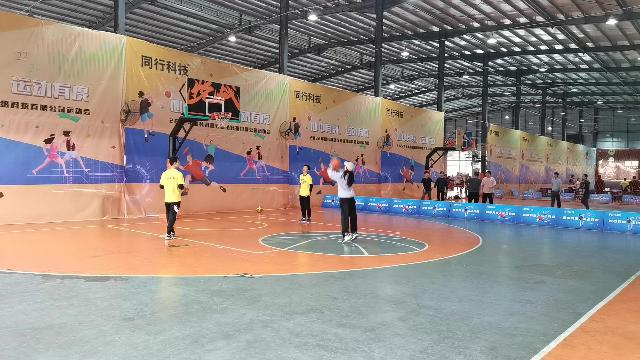ball: (330, 158, 340, 170), (255, 206, 262, 212)
basket: (213, 112, 231, 126)
